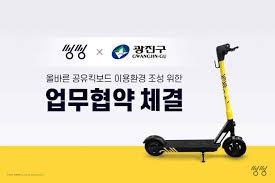kick_body: (165, 140, 217, 151)
kick_handler: (215, 44, 239, 59)
kick_neck: (216, 61, 236, 128)
kick_wheel: (223, 138, 246, 157), (144, 135, 162, 155)
